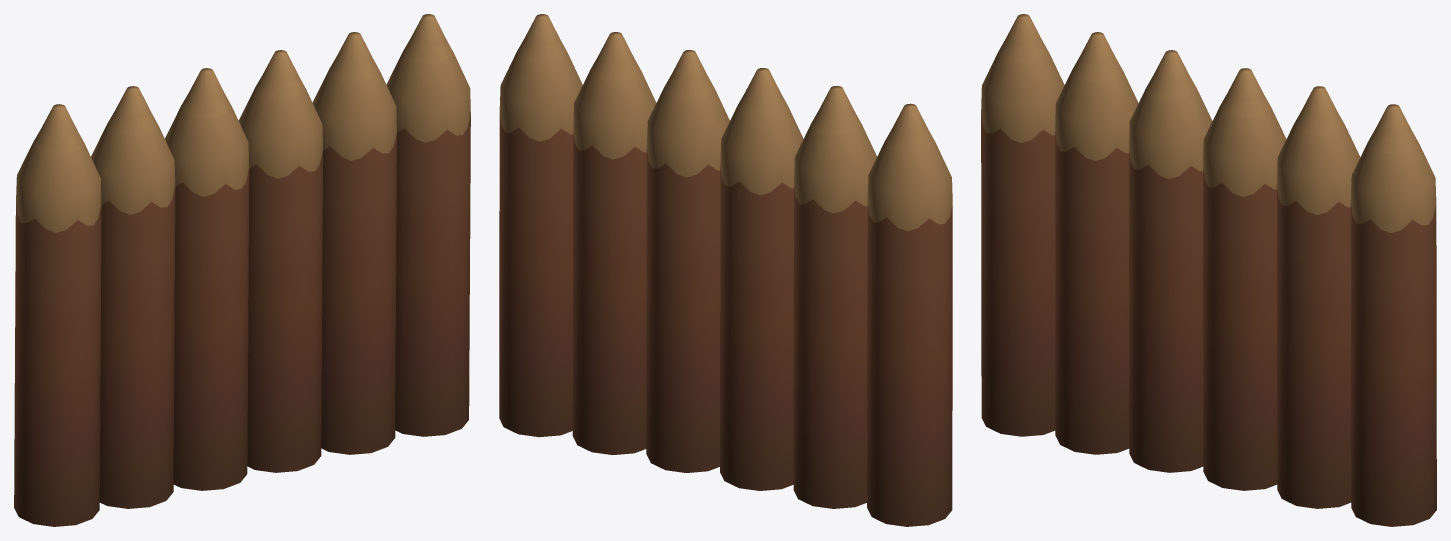
The model's file is Fence_3.fbx.
3 renders of one model, left to right at view 1: azimuth 30°, elevation 25°; view 2: azimuth 150°, elevation 25°; view 3: azimuth 330°, elevation 25°, orthographic.
Visible parts, largest first — view 1: Fence_3; view 2: Fence_3; view 3: Fence_3.
Boxes of the visible parts, left/top/right/bottom form: Fence_3: left=14, top=14, right=470, bottom=526; Fence_3: left=499, top=14, right=952, bottom=526; Fence_3: left=981, top=14, right=1436, bottom=526.
Bounding box in the file's own units: 175 × 152 × 30.
